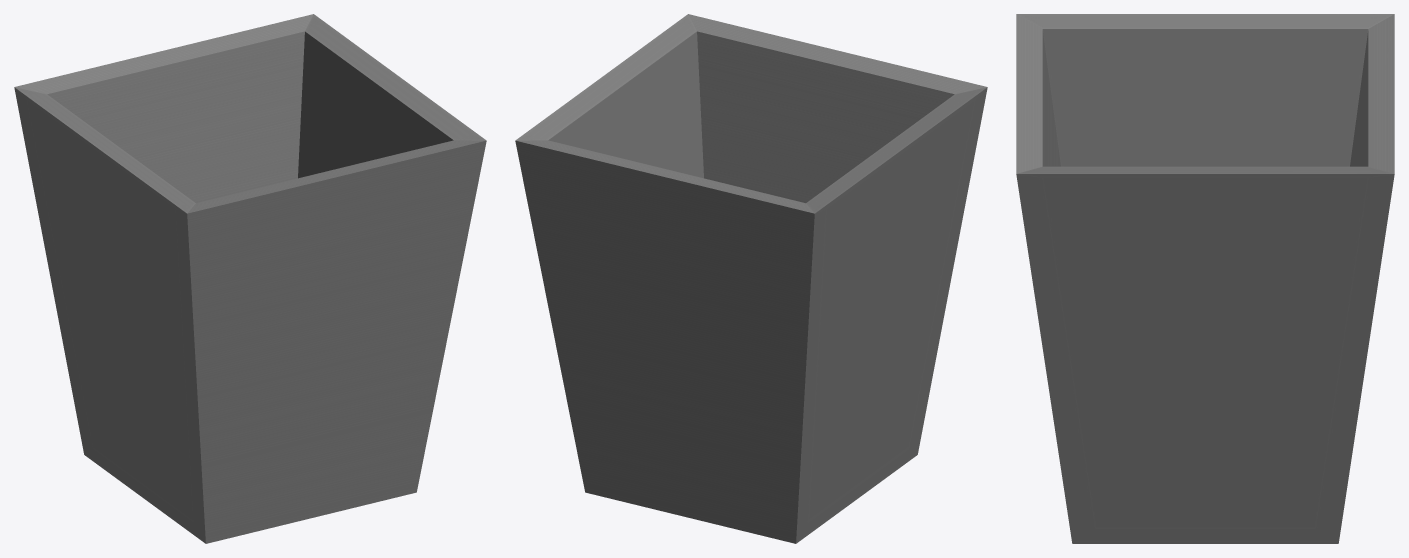
File: gomibako-square.fbx
3 renders of one model, left to right at view 1: azimuth 30°, elevation 25°; view 2: azimuth 150°, elevation 25°; view 3: azimuth 270°, elevation 25°, orthographic. The views are drawn at different scales.
Parts seen in each view (by area): view 1: gomibako_square; view 2: gomibako_square; view 3: gomibako_square.
Part boxes in pixels (x1,y1,x2,y2): gomibako_square: [14, 14, 486, 543]; gomibako_square: [515, 14, 987, 543]; gomibako_square: [1016, 14, 1394, 543].
Size of the model in its own units: 3.28 by 3.77 by 3.28.
Materials: 1 (1 with a texture image).
